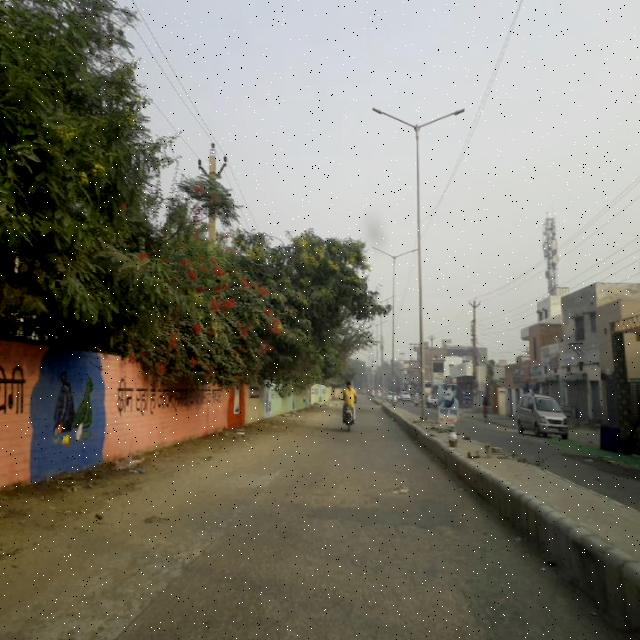D01: (115, 502, 252, 638)
D40: (275, 463, 421, 504)
